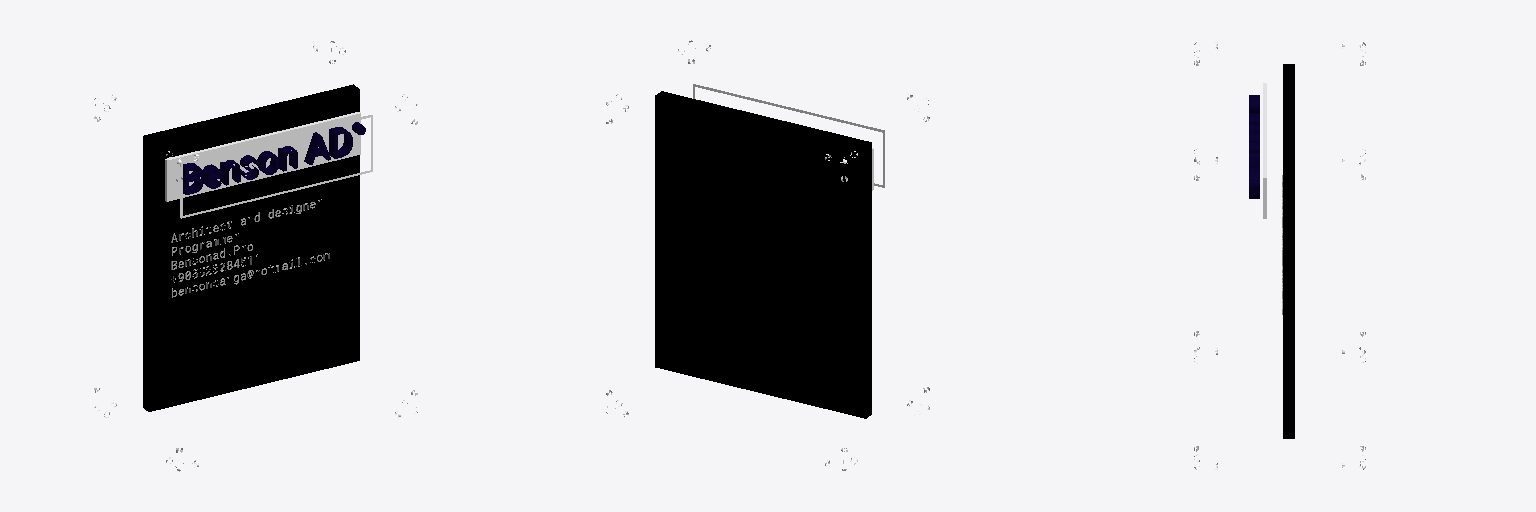
File: card.obj
3 renders of one model, left to right at view 1: azimuth 30°, elevation 25°; view 2: azimuth 150°, elevation 25°; view 3: azimuth 270°, elevation 25°, orthographic.
Parts seen in each view (by area): view 1: object_90, object_92, object_91, object_98; view 2: object_90, object_91; view 3: object_90, object_92.
Part boxes in pixels (x1,y1,x2,y2): object_90: (143,84,359,411); object_92: (165,112,360,201); object_91: (180,115,372,218); object_98: (329,127,352,158); object_90: (655,91,871,418); object_91: (693,84,884,187); object_90: (1283,64,1294,438); object_92: (1263,83,1266,218).
Bounding box in the file's own units: 3.4 × 4.21 × 2.1.